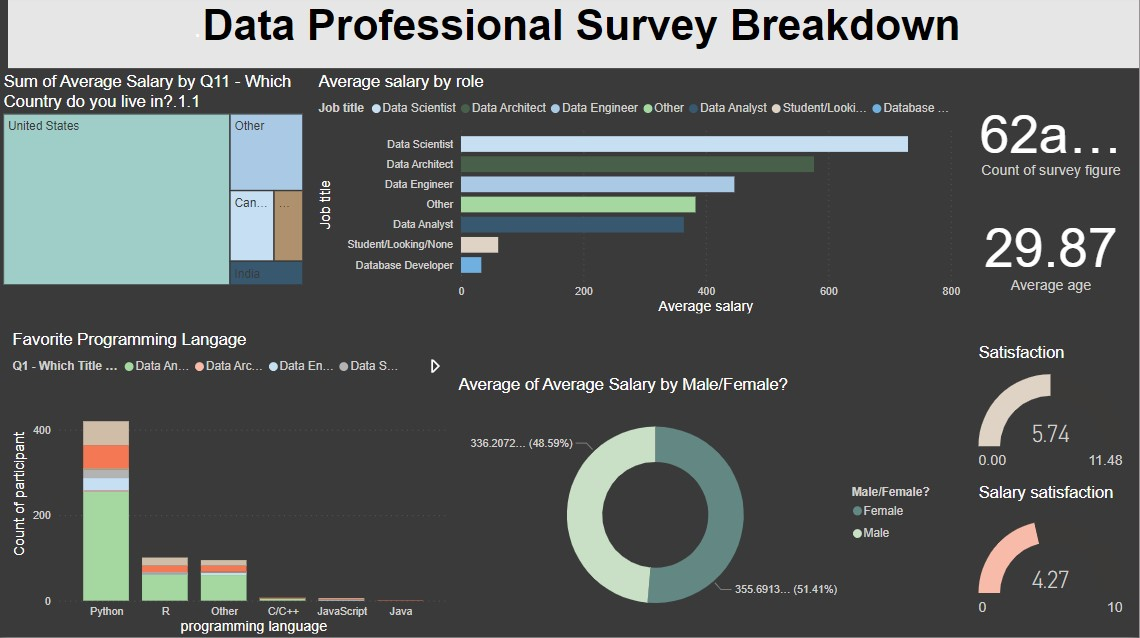

The dashboard page shown, as its layout file describes it:
{"tool":"powerbi","page":{"name":"Page 1","canvas":[1280,720],"ordinal":0},"visuals":[{"type":"textbox","box":[10.1,0,1269.9,80.6],"z":0},{"type":"card","fields":{"Values":["Min(Data Professional Survey.Unique ID)"]},"box":[1085,81.4,193.1,153.4],"z":1000},{"type":"card","fields":{"Values":["Avg(Data Professional Survey.Q10 - Current Age)"]},"box":[1085,212.1,193.1,149.6],"z":2000},{"type":"barChart","title":"Average salary by role","fields":{"Category":["Data Professional Survey.Q1 - Which Title Best Fits your Current Role?.1"],"Y":["Avg(Data Professional Survey.Average Salary)"],"Series":["Data Professional Survey.Q1 - Which Title Best Fits your Current Role?.1"]},"box":[354.1,85.2,730.9,276.4],"z":3000},{"type":"columnChart","title":"Favorite Programming Langage","fields":{"Category":["Data Professional Survey.Q5 - Favorite Programming Language.1"],"Y":["CountNonNull(Data Professional Survey.Unique ID)"],"Series":["Data Professional Survey.Q1 - Which Title Best Fits your Current Role?.1"]},"box":[10.6,374.6,499,345.8],"z":4000},{"type":"treemap","fields":{"Values":["Sum(Data Professional Survey.Average Salary)"],"Group":["Data Professional Survey.Q11 - Which Country do you live in?.1.1"]},"box":[0,84.9,345.8,244.2],"z":5000},{"type":"gauge","title":"Satisfaction","fields":{"Y":["Avg(Data Professional Survey.Q6 - How Happy are you in your Current Position with the following? (Work/Life Balance))"]},"box":[1094.4,390.1,172.3,157.2],"z":6000},{"type":"gauge","title":"Salary satisfaction","fields":{"Y":["Avg(Data Professional Survey.Q6 - How Happy are you in your Current Position with the following? (Salary))"],"MinValue":["Min(Data Professional Survey.Q6 - How Happy are you in your Current Position with the following? (Salary))"],"MaxValue":["Max(Data Professional Survey.Q6 - How Happy are you in your Current Position with the following? (Salary))"]},"box":[1094.4,547.2,172.3,172.3],"z":7000},{"type":"donutChart","fields":{"Y":["Avg(Data Professional Survey.Average Salary)"],"Category":["Data Professional Survey.Q9 - Male/Female?"]},"box":[511.2,426,558.6,293.5],"z":8000}]}

Visuals, with their boxes in screenshot pixels (x1, y1, x2, y2), scaled from the page's 1280x720 canvas onto the 1140x638 screenshot:
textbox: <bbox>9, 0, 1139, 71</bbox>
card - Min(Data Professional Survey.Unique ID): <bbox>966, 72, 1138, 208</bbox>
card - Avg(Data Professional Survey.Q10 - Current Age): <bbox>966, 188, 1138, 321</bbox>
"Average salary by role" barChart: <bbox>315, 75, 966, 320</bbox>
"Favorite Programming Langage" columnChart: <bbox>9, 332, 454, 637</bbox>
treemap - Sum(Data Professional Survey.Average Salary) x Data Professional Survey.Q11 - Which Country do you live in?.1.1: <bbox>0, 75, 308, 292</bbox>
"Satisfaction" gauge: <bbox>975, 346, 1128, 485</bbox>
"Salary satisfaction" gauge: <bbox>975, 485, 1128, 637</bbox>
donutChart - Avg(Data Professional Survey.Average Salary) x Data Professional Survey.Q9 - Male/Female?: <bbox>455, 377, 953, 637</bbox>
